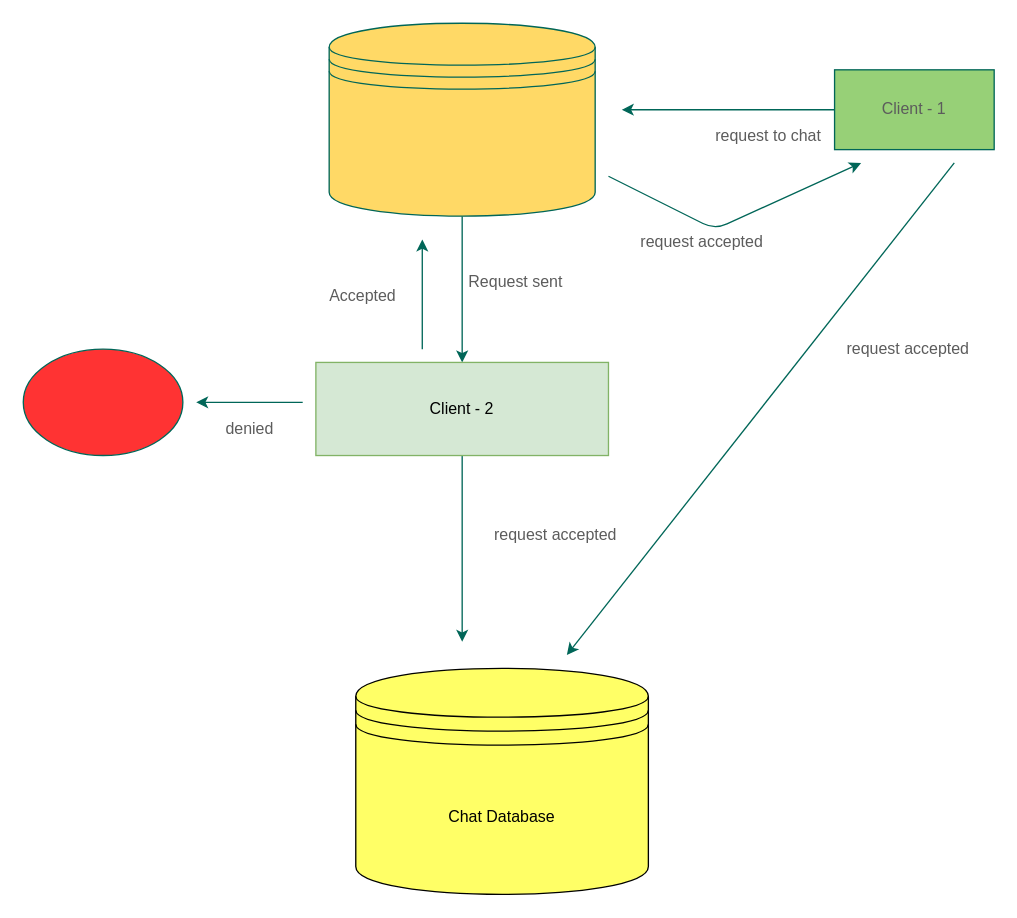
This 1017x918 diagram has some shape labels left out. The centre of each missing label's shape, as x and y in pixels:
FireBase: the point at 461,119
Request Denied: the point at 102,402
